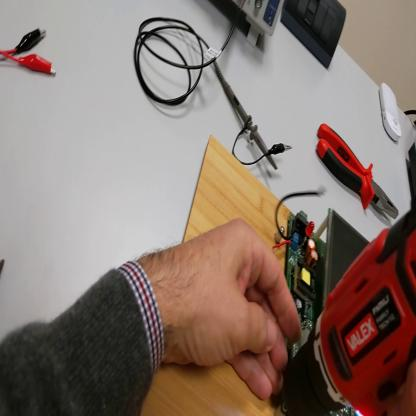electric screwdriver: (275, 187, 416, 415)
hand: (170, 215, 301, 394), (391, 369, 416, 414)
oscilloscope: (233, 1, 285, 45)
oscilloscope probe tip: (212, 60, 278, 172)
pliers: (316, 122, 400, 218)
welder station: (408, 144, 416, 205)
working area: (147, 130, 292, 416)
